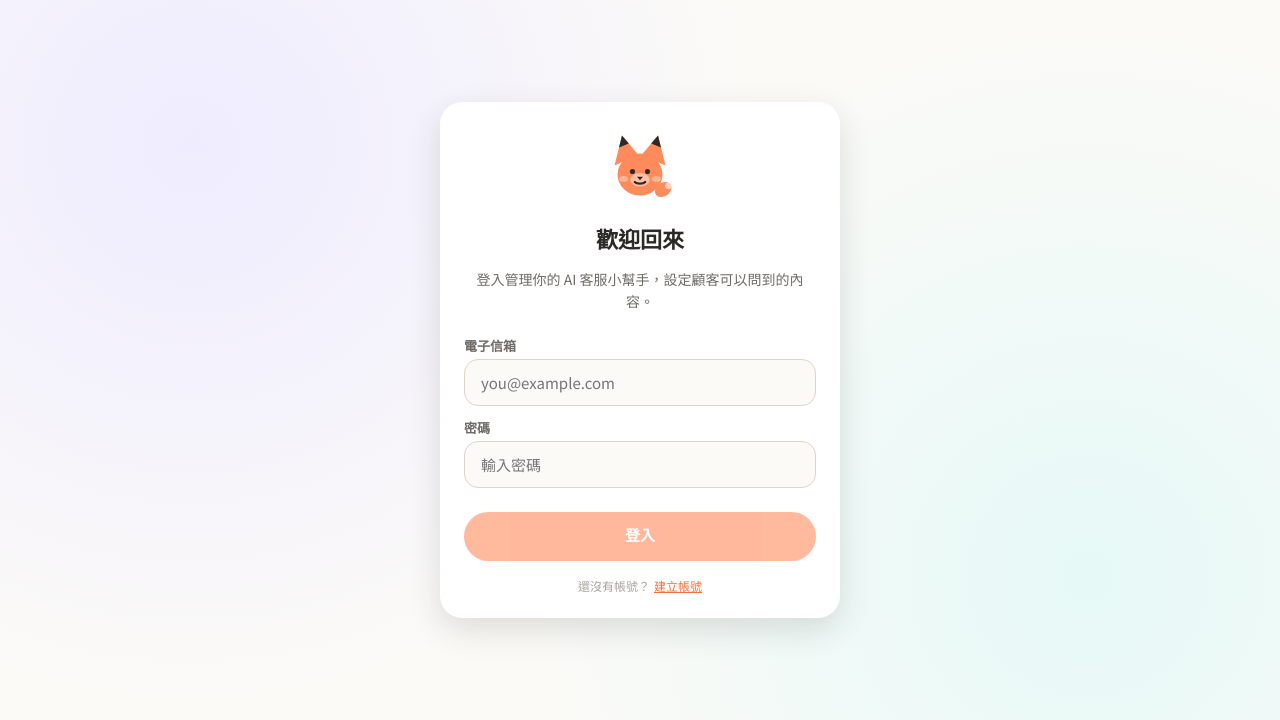
Scenario: console analytics: the owner’s path through the app › counts a new registration as sign_up once, and a login as nothing
Click the button "建立帳號".
click(678, 586)  # box [654,577,702,594]
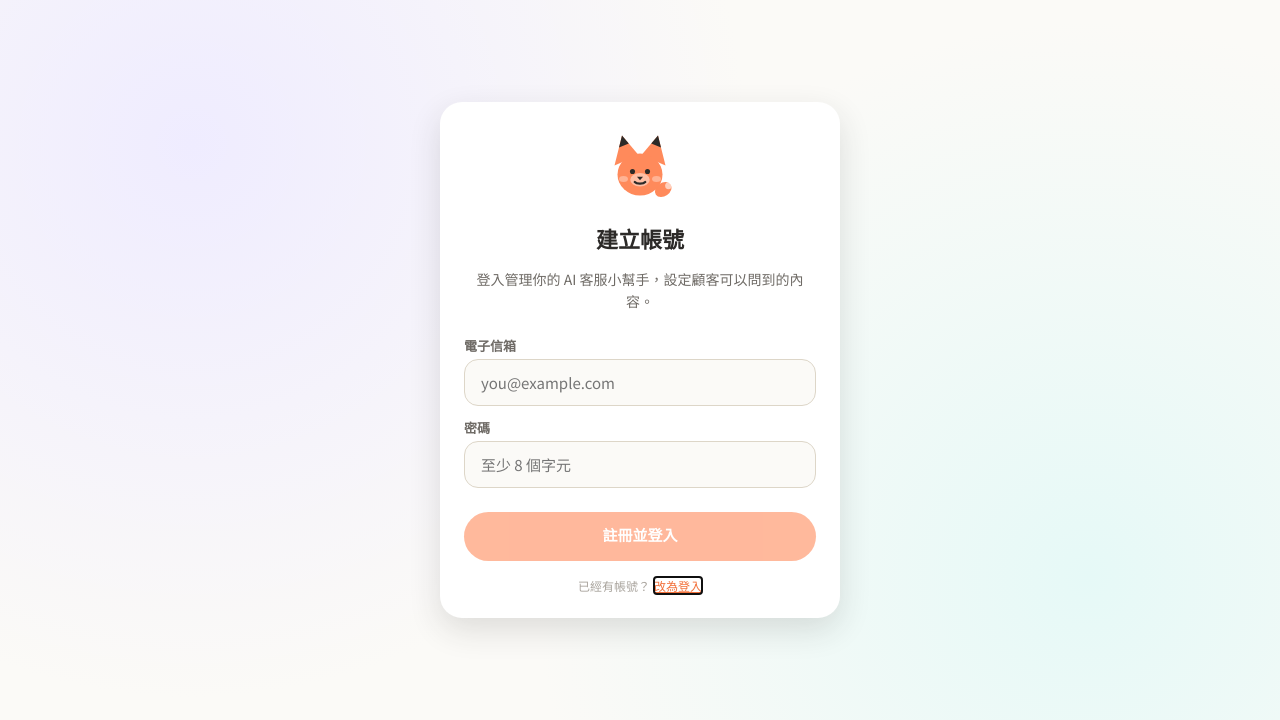
Type "new@b.co" into the field labelled "電子信箱".
click(640, 383); type("new@b.co")  # box [464,359,816,406]
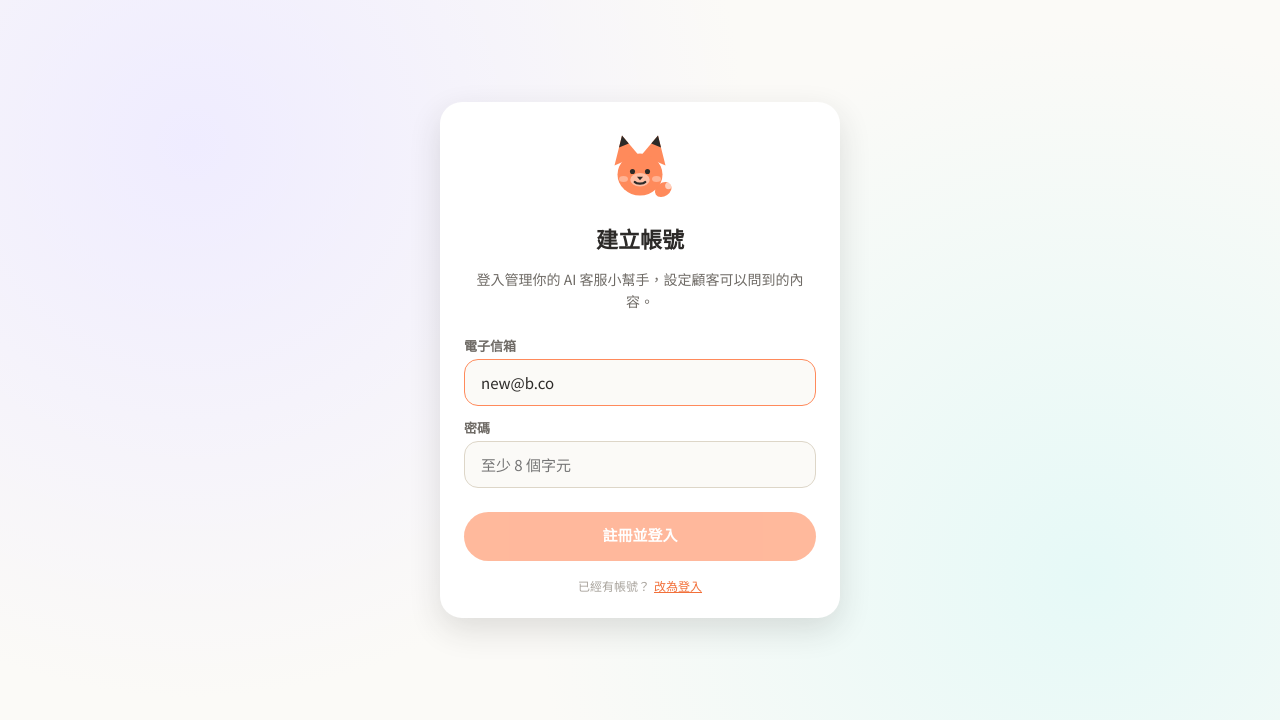
Type "password123" into the password field labelled "密碼".
click(640, 465); type("password123")  # box [464,441,816,488]
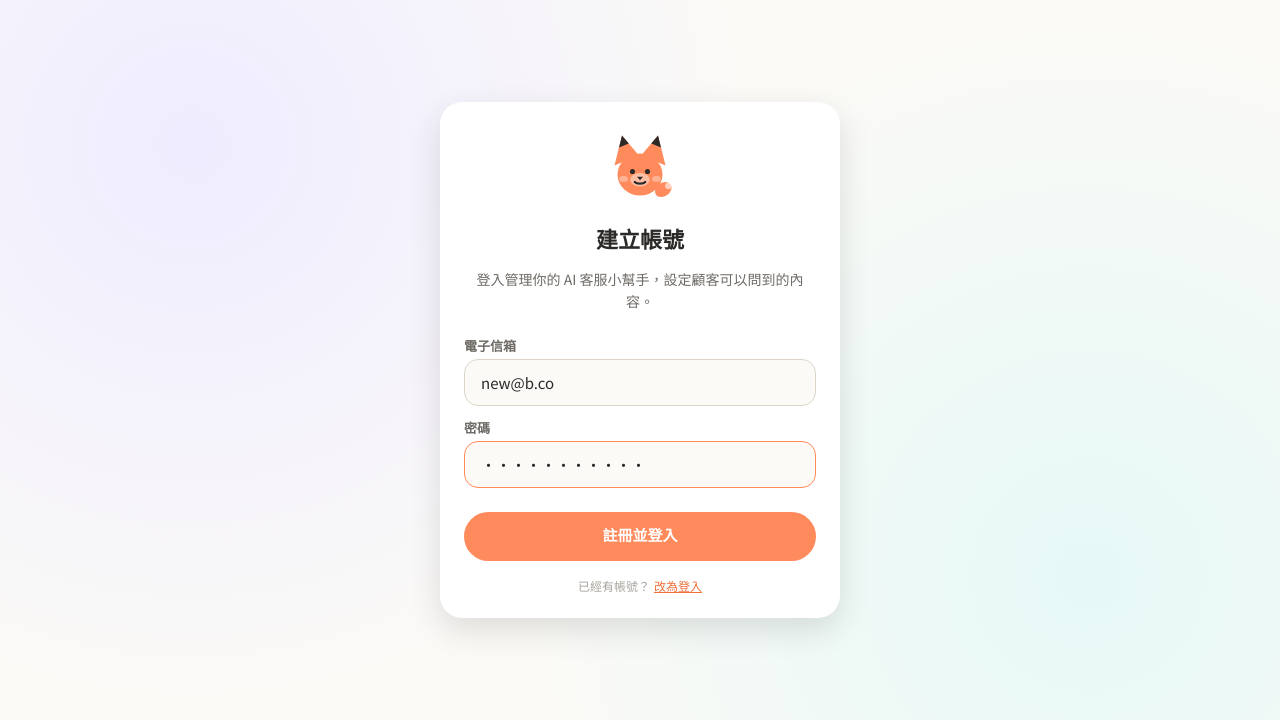
Click the button "註冊並登入".
click(640, 537)  # box [464,512,816,561]
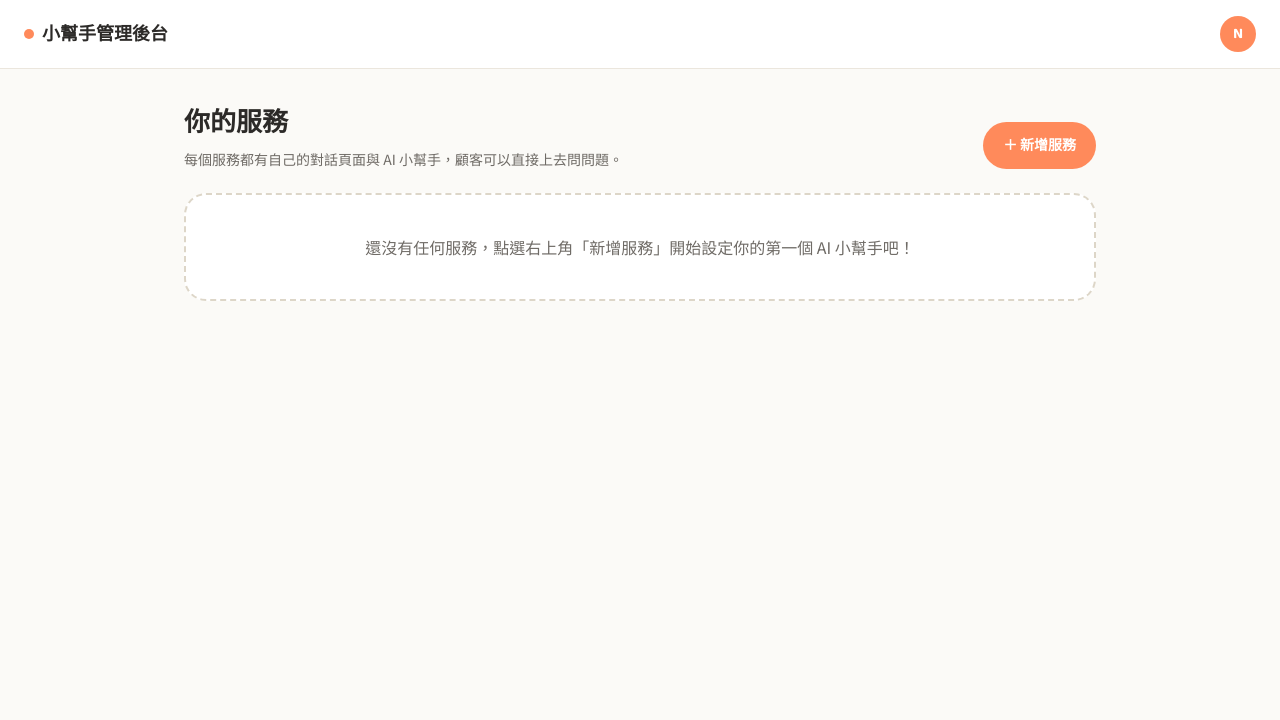
Expected: the heading "你的服務" is shown, [184,103,288,145]
